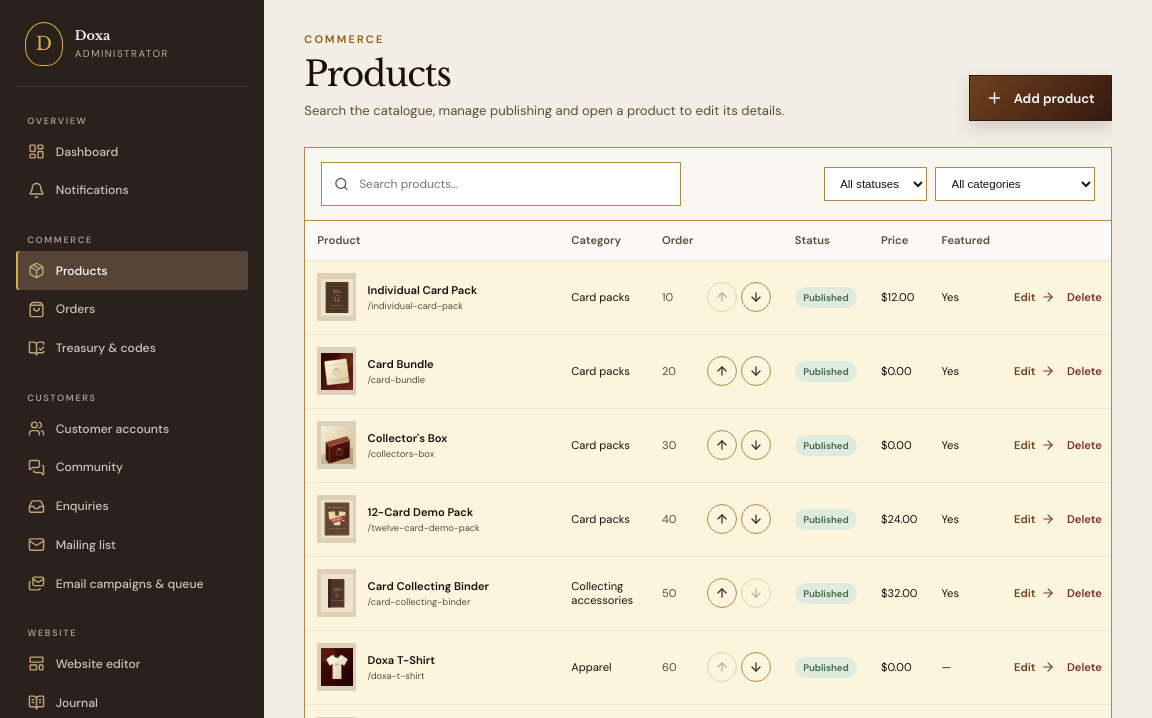
it: routed administrator workspace › navigates between real admin views and updates the URL
Expected: the heading "Products" is shown, x1=304 y1=52 x2=451 y2=95
Expected: the text "Individual Card Pack" is shown, x1=368 y1=283 x2=477 y2=297
Click the link "Orders" at (61, 309), box x1=28 y1=301 x2=95 y2=318
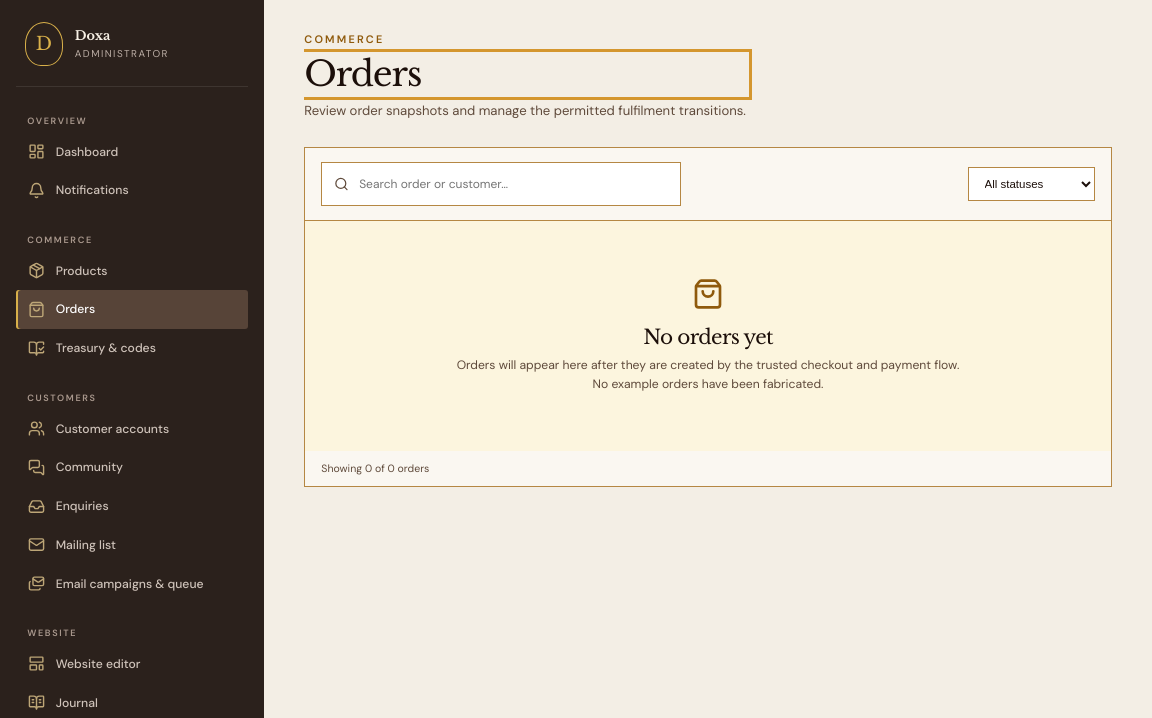
Expected: the heading "Orders" is shown, x1=304 y1=52 x2=421 y2=95
Expected: the heading "No orders yet" is shown, x1=643 y1=326 x2=773 y2=349
